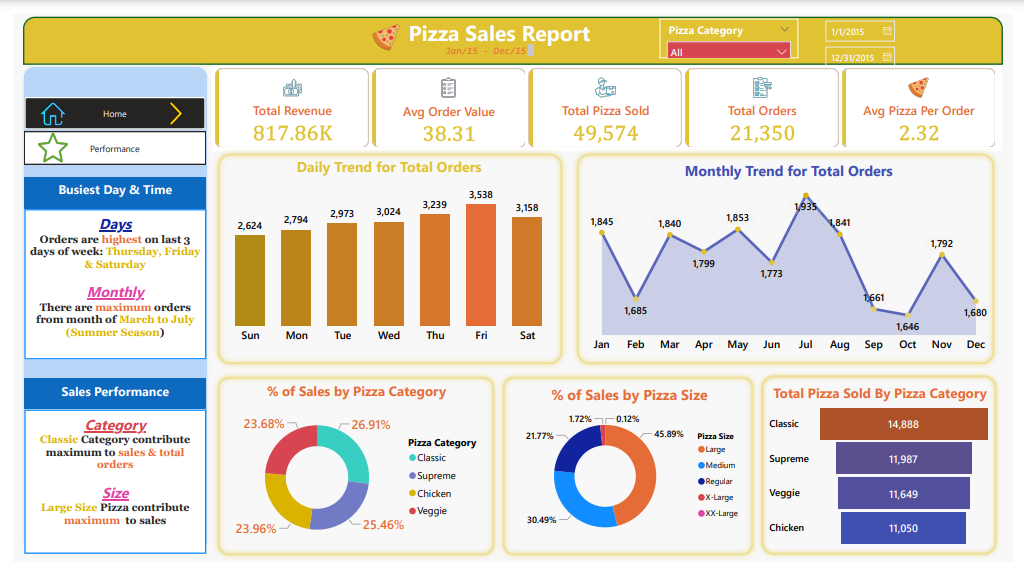

What the dashboard file says about the page in this screenshot:
{"tool":"powerbi","page":{"name":"Home","canvas":[1500,820],"ordinal":0},"visuals":[{"type":"cardVisual","fields":{"Data":["Measures (2).Total Revenue","Measures (2).Avg Order Value","Measures (2).Total Pizza Sold","Measures (2).Total Orders","Measures (2).AVg Pizza Per Order"]},"box":[298.7,77.5,1183.9,127.2],"z":0},{"type":"shape","box":[14.8,3.7,1469.8,72],"z":1000},{"type":"textbox","box":[564.3,0,331.9,59],"z":2000},{"type":"textbox","box":[643.6,40.6,142,27.7],"z":3000},{"type":"image","box":[534.8,9.2,49.8,51.6],"z":4000},{"type":"shape","box":[298.7,201,533,330.1],"z":5000},{"type":"shape","box":[839.1,201,639.9,330.1],"z":6000},{"type":"shape","box":[298.7,534.8,431.5,282.2],"z":7000},{"type":"shape","box":[726.6,534.8,391,282.2],"z":8000},{"type":"columnChart","title":"Daily Trend for Total Orders","fields":{"Category":["pizza_sales.Order Day"],"Y":["Measures (2).Total Orders"]},"box":[300.6,213.9,527,288],"z":9000},{"type":"areaChart","title":"Monthly Trend for Total Orders","fields":{"Category":["pizza_sales.Order Month"],"Y":["Measures (2).Total Orders"]},"box":[857.5,219.5,612.2,295.1],"z":10000},{"type":"donutChart","title":"% of Sales by Pizza Category","fields":{"Category":["pizza_sales.pizza_category"],"Y":["Measures (2).Total Revenue"]},"box":[315.3,549.5,400.2,260],"z":11000},{"type":"donutChart","title":"% of Sales by Pizza Size","fields":{"Category":["pizza_sales.pizza_size"],"Y":["Measures (2).Total Revenue"]},"box":[745,555.1,359.6,249],"z":12000},{"type":"shape","box":[1117.5,534.8,363.3,280.3],"z":13000},{"type":"funnel","title":"Total Pizza Sold By Pizza Category","fields":{"Category":["pizza_sales.pizza_category"],"Y":["Measures (2).Total Pizza Sold"]},"box":[1130.4,553.2,341.2,249],"z":14000},{"type":"shape","box":[9.2,71.9,289.5,739.5],"z":15000},{"type":"textbox","box":[16.6,244.9,272.9,47.9],"z":16000},{"type":"textbox","box":[16.6,292,272.9,225],"z":17000},{"type":"textbox","box":[16.6,546.4,272.9,47.9],"z":18000},{"type":"textbox","box":[16.6,592.5,272.9,215.8],"z":19000},{"type":"slicer","fields":{"Values":["pizza_sales.pizza_category"]},"box":[970,7.4,208.4,59],"z":20000},{"type":"slicer","fields":{"Values":["pizza_sales.order_date"]},"box":[1206.1,0,232.4,75.6],"z":21000},{"type":"pageNavigator","box":[16.6,124.1,272.9,49.8],"z":22000},{"type":"pageNavigator","box":[16.6,176.1,272.9,49.8],"z":23000},{"type":"image","box":[33.2,127.8,53.5,44.3],"z":24000},{"type":"image","box":[33.2,170.6,53.5,57.2],"z":25000},{"type":"image","box":[223.1,127.8,44.3,42.4],"z":26000}]}

Visuals, with their boxes in screenshot pixels (x1, y1, x2, y2), scaled from the page's 1500x820 canvas onto the 1024x572 screenshot:
cardVisual - Measures (2).Total Revenue x Measures (2).Avg Order Value: (204,54,1012,143)
shape: (10,3,1013,53)
textbox: (385,0,612,41)
textbox: (439,28,536,48)
image: (365,6,399,42)
shape: (204,140,568,370)
shape: (573,140,1010,370)
shape: (204,373,498,570)
shape: (496,373,763,570)
"Daily Trend for Total Orders" columnChart: (205,149,565,350)
"Monthly Trend for Total Orders" areaChart: (585,153,1003,359)
"% of Sales by Pizza Category" donutChart: (215,383,488,565)
"% of Sales by Pizza Size" donutChart: (509,387,754,561)
shape: (763,373,1011,569)
"Total Pizza Sold By Pizza Category" funnel: (772,386,1005,560)
shape: (6,50,204,566)
textbox: (11,171,198,204)
textbox: (11,204,198,361)
textbox: (11,381,198,415)
textbox: (11,413,198,564)
slicer - pizza_sales.pizza_category: (662,5,804,46)
slicer - pizza_sales.order_date: (823,0,982,53)
pageNavigator: (11,87,198,121)
pageNavigator: (11,123,198,158)
image: (23,89,59,120)
image: (23,119,59,159)
image: (152,89,183,119)
